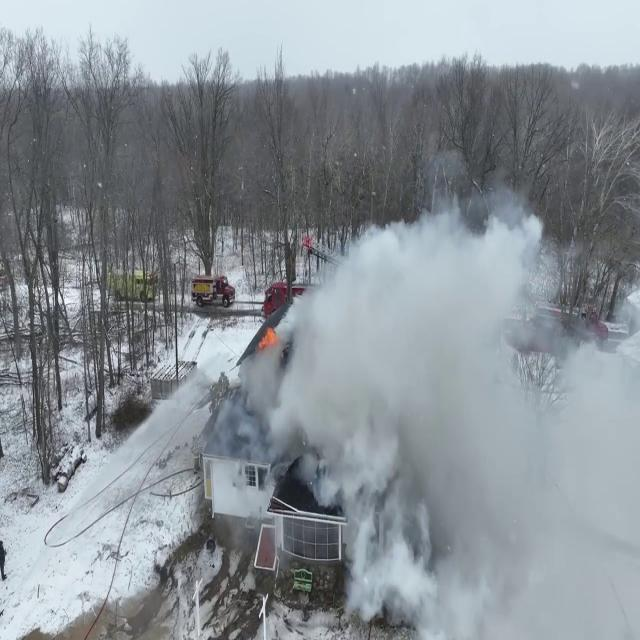Smoke: (254, 171, 640, 636)
